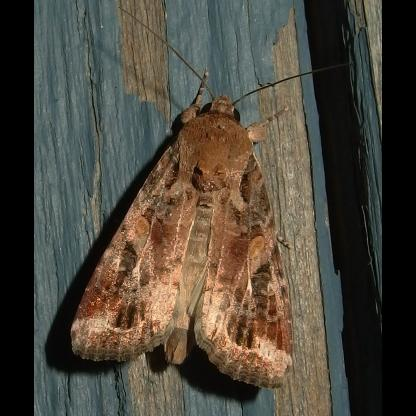Fall Armyworm Moth: (66, 4, 356, 392)
